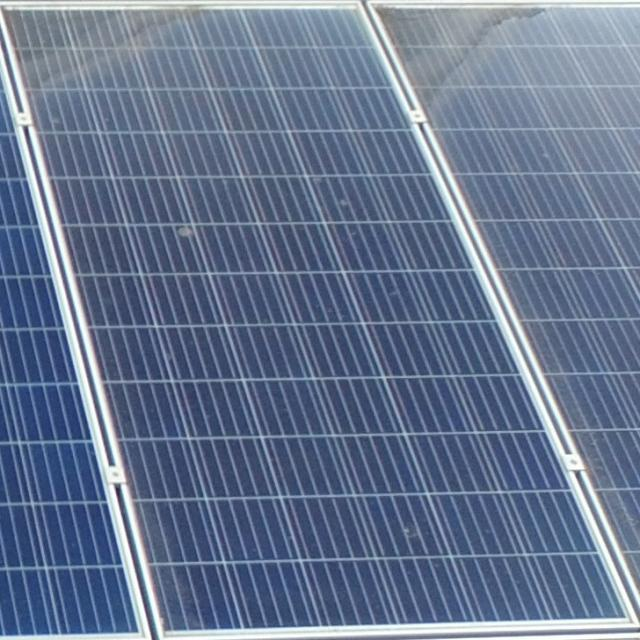Dust: (0, 0, 249, 150), (367, 0, 578, 116)
bird-droppings: (176, 215, 199, 243)
